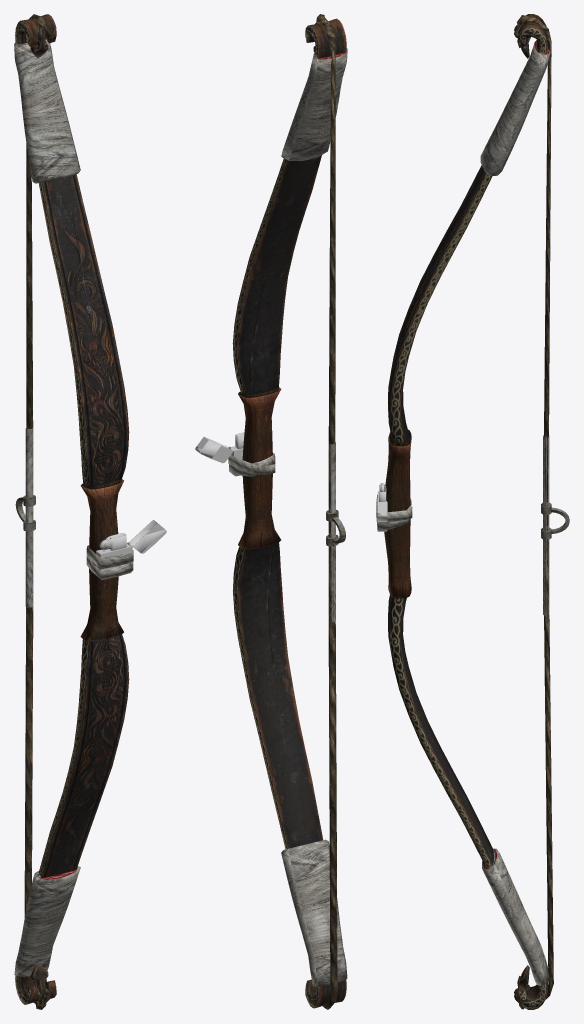
Rendered from bow.fbx.
3 renders of one model, left to right at view 1: azimuth 30°, elevation 25°; view 2: azimuth 210°, elevation 25°; view 3: azimuth 270°, elevation 25°, orthographic.
Visible parts, largest first — view 1: Bow_recurve; view 2: Bow_recurve; view 3: Bow_recurve.
Part boxes in pixels (box(x1,y1,x2,y2)): Bow_recurve: box(14, 14, 166, 1009); Bow_recurve: box(195, 14, 347, 1009); Bow_recurve: box(376, 14, 569, 1009).
Size of the model in its own units: 1 by 12.26 by 2.16.
